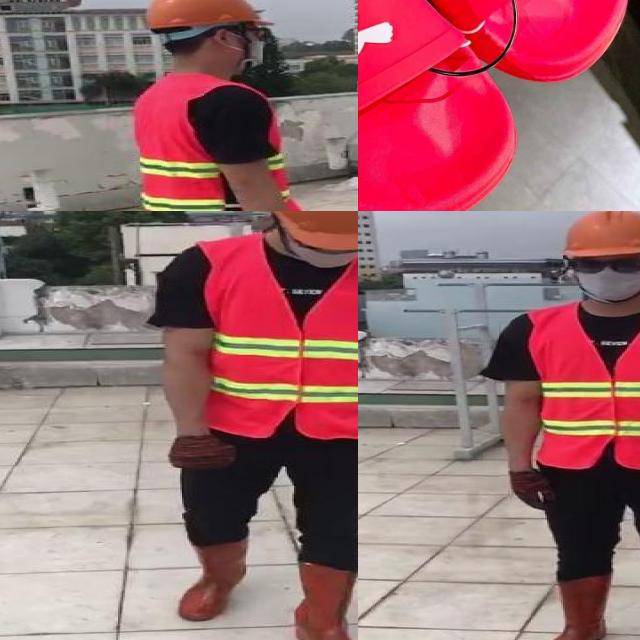Sandals: (358, 0, 640, 211)
boots: (178, 540, 248, 621), (290, 560, 358, 640), (539, 576, 609, 640)
hand_glove: (170, 436, 236, 469)
head_helmet: (560, 211, 640, 260), (144, 0, 270, 29), (268, 211, 358, 251)
person: (145, 211, 358, 640), (488, 211, 640, 640), (126, 0, 358, 211)
vest: (201, 236, 358, 441), (129, 74, 305, 211), (533, 301, 640, 470)
